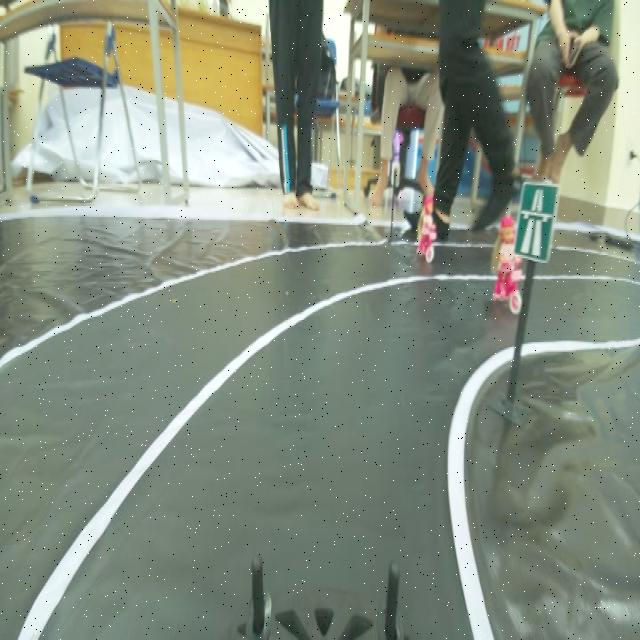highway_entry: (516, 180, 559, 262)
